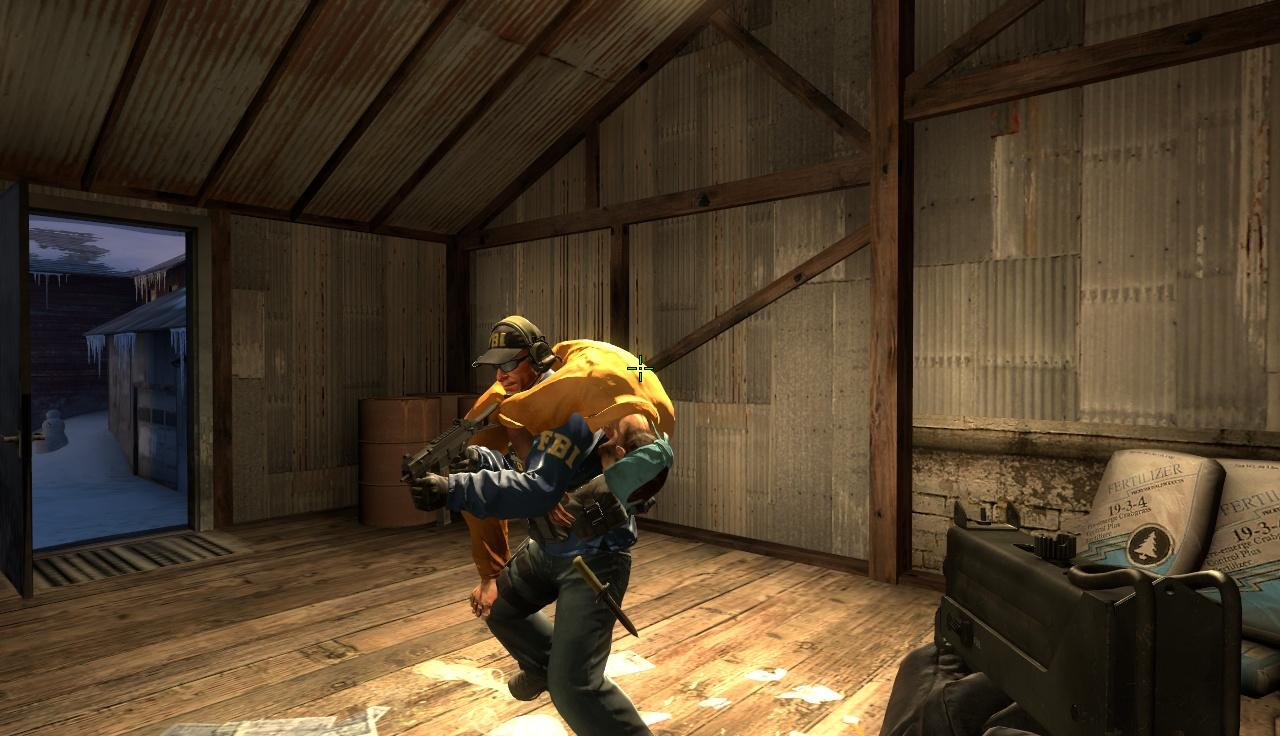ct: (457, 310, 611, 734)
cthead: (477, 314, 552, 395)
rifle: (920, 495, 1246, 736)
